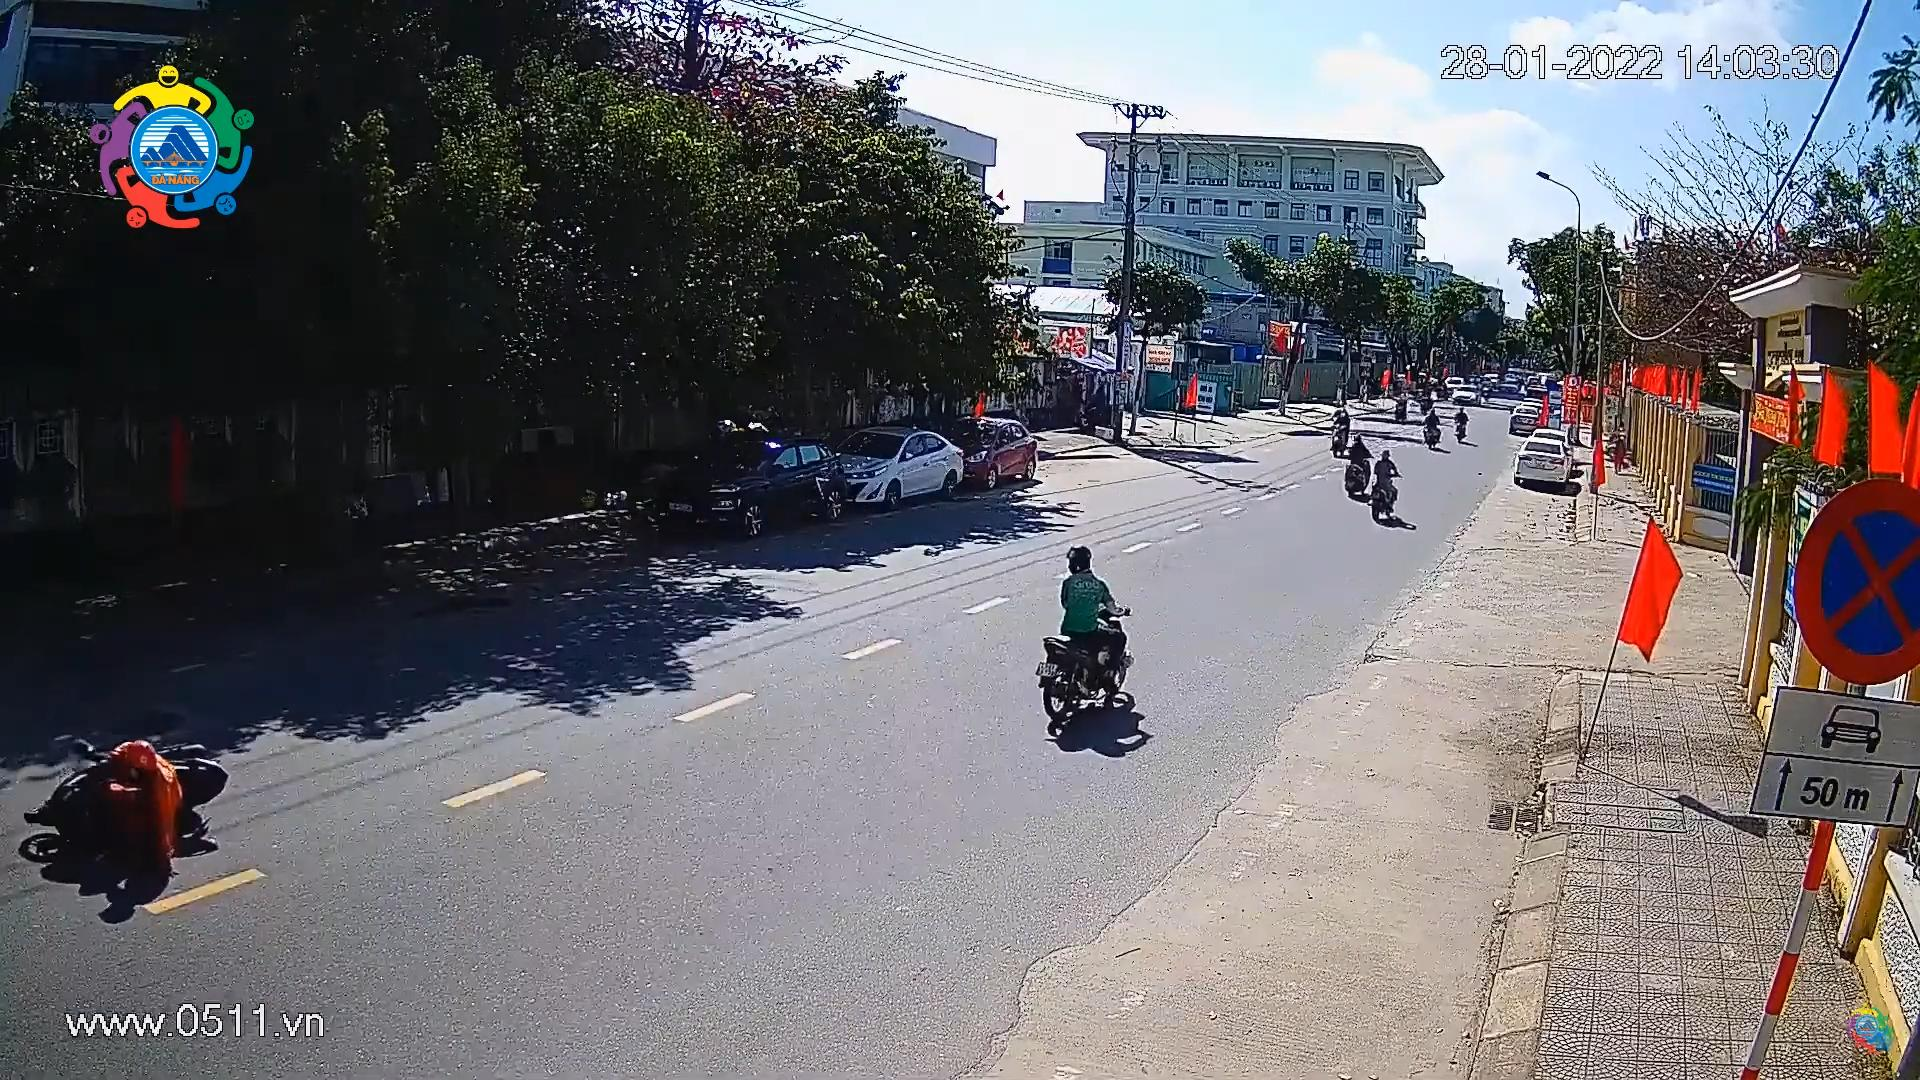accident: (17, 724, 236, 909)
car: (633, 434, 852, 539), (832, 425, 968, 510), (949, 414, 1040, 492), (1511, 435, 1571, 489), (1505, 402, 1544, 439), (1452, 381, 1484, 406)
motorcycle: (1023, 535, 1147, 741), (1337, 430, 1377, 498), (1366, 448, 1399, 525), (1328, 398, 1356, 459), (1419, 405, 1444, 455), (1451, 401, 1469, 447), (1395, 390, 1407, 425)
